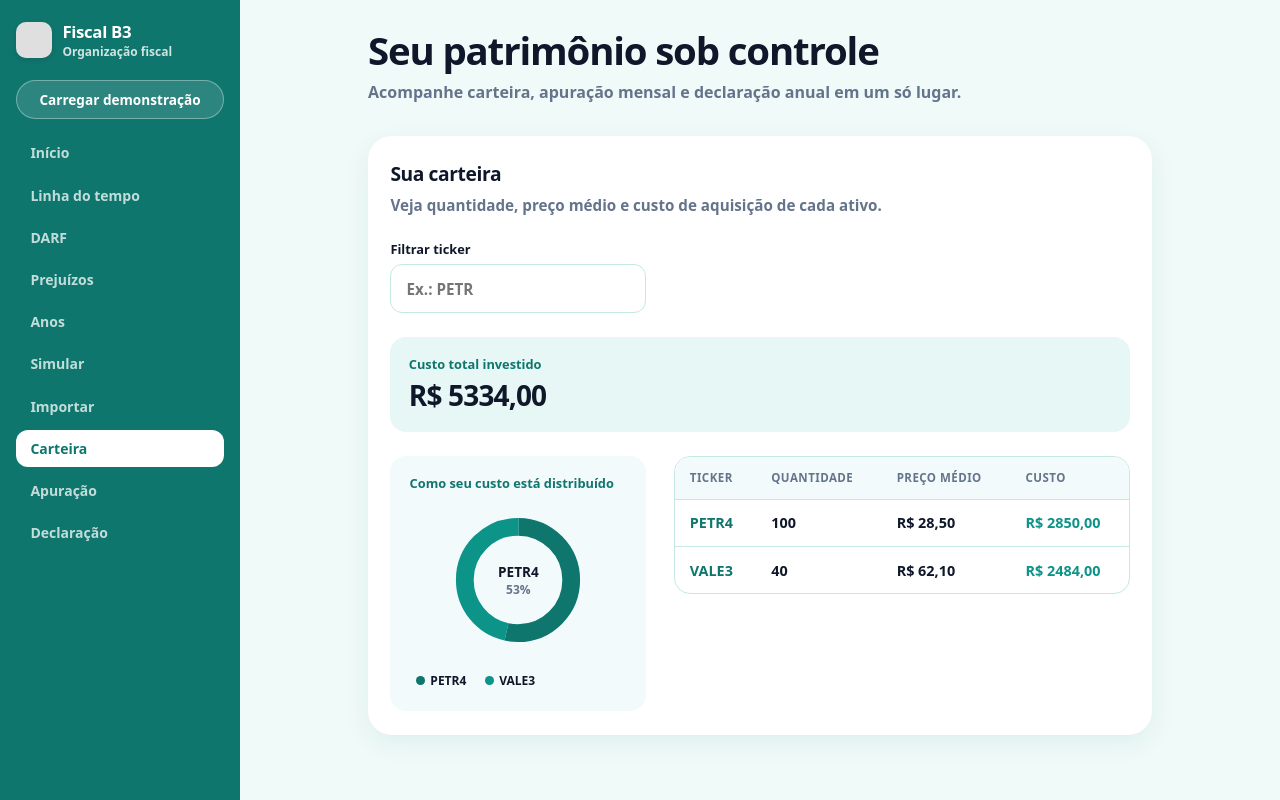
Scenario: Web UI › filters portfolio table and chart by ticker
Expected: the text "PETR4" below "Como seu custo está distribuído" is shown, [498,562,539,581]
Expected: the button "VALE3" is shown, [478,668,541,693]
Type "vale" into the field labelled "Filtrar ticker" at (518, 289), box [390,264,646,313]
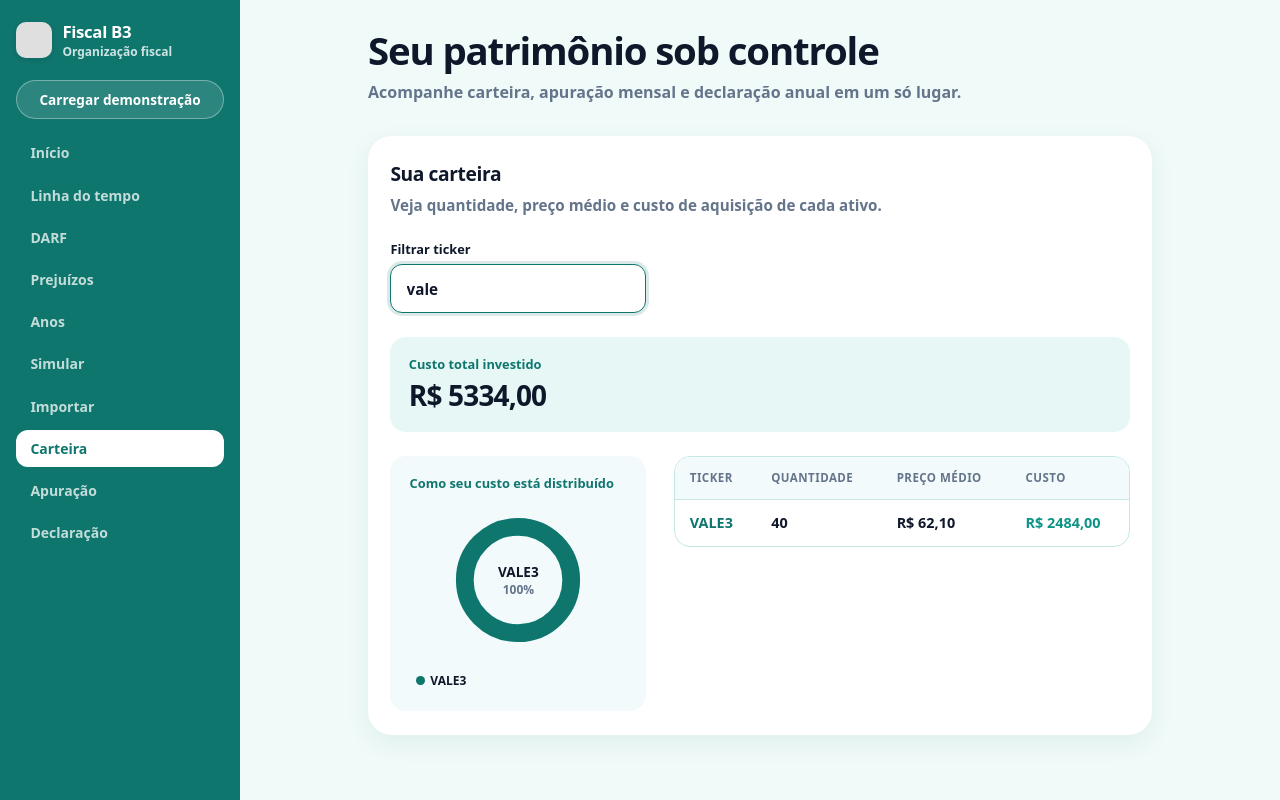
Expected: the text "PETR4" is gone
Expected: the text "VALE3" below "Como seu custo está distribuído" is shown, [498,562,539,581]
